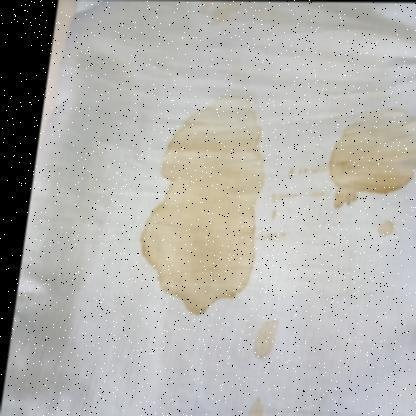coffee: (165, 134, 245, 292), (334, 117, 413, 187)
